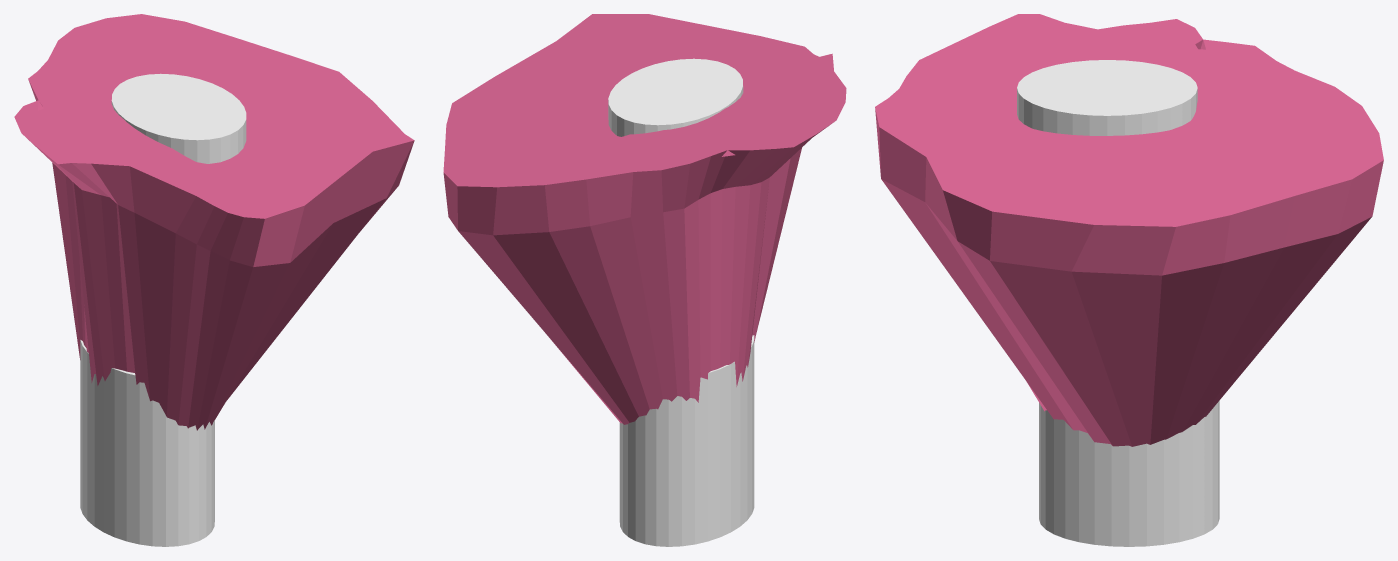
The model's file is Ham.fbx.
The picture shows the model from 3 angles, left to right: view 1: azimuth 30°, elevation 25°; view 2: azimuth 150°, elevation 25°; view 3: azimuth 270°, elevation 25°; orthographic projection. The views are drawn at different scales.
Visible parts, largest first — view 1: Cylinder.001; view 2: Cylinder.001; view 3: Cylinder.001.
Boxes of the visible parts, <box> form: Cylinder.001: <box>14,14,414,546</box>; Cylinder.001: <box>443,14,846,546</box>; Cylinder.001: <box>875,14,1383,546</box>.
Bounding box in the file's own units: 1458 × 1737 × 1785.
